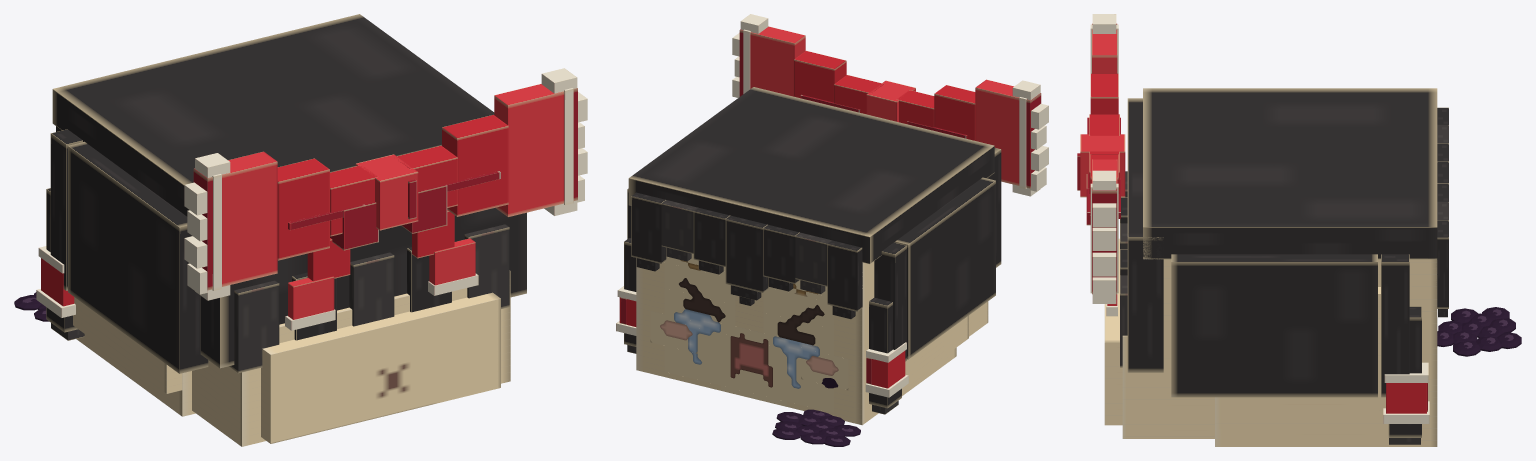
File: leak_reimu_3.obj
The picture shows the model from 3 angles, left to right: view 1: azimuth 30°, elevation 25°; view 2: azimuth 150°, elevation 25°; view 3: azimuth 270°, elevation 25°; orthographic projection. The views are drawn at different scales.
Visible parts, largest first — view 1: leak_reimu_3; view 2: leak_reimu_3; view 3: leak_reimu_3.
Boxes of the visible parts, box(x1,y1,x2,y2) form: leak_reimu_3: box(14, 14, 587, 446); leak_reimu_3: box(616, 14, 1048, 446); leak_reimu_3: box(1077, 14, 1521, 446).
Bounding box in the file's own units: 16.28 × 12.24 × 17.34.
1 material, 1 textured.
